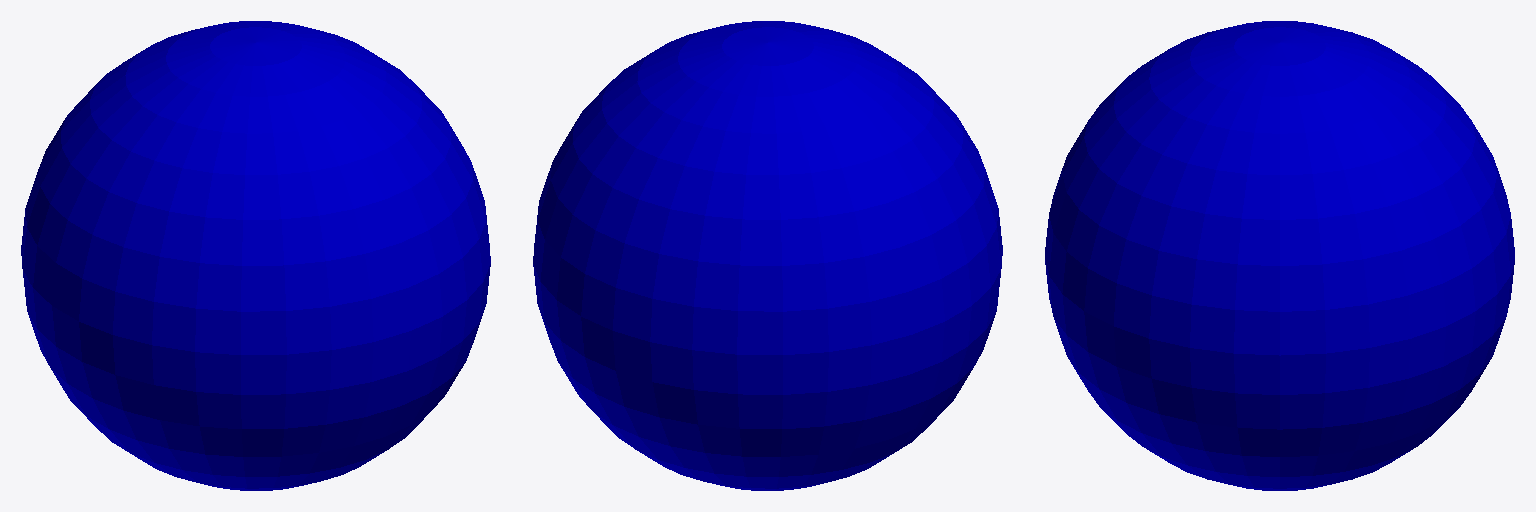
The model's file is Item.obj.
3 renders of one model, left to right at view 1: azimuth 30°, elevation 25°; view 2: azimuth 150°, elevation 25°; view 3: azimuth 270°, elevation 25°, orthographic.
Parts seen in each view (by area): view 1: 球; view 2: 球; view 3: 球.
Part boxes in pixels (x1,y1,x2,y2): 球: (21,21,490,490); 球: (533,21,1002,490); 球: (1045,21,1514,490).
Bounding box in the file's own units: 2 × 2 × 2.